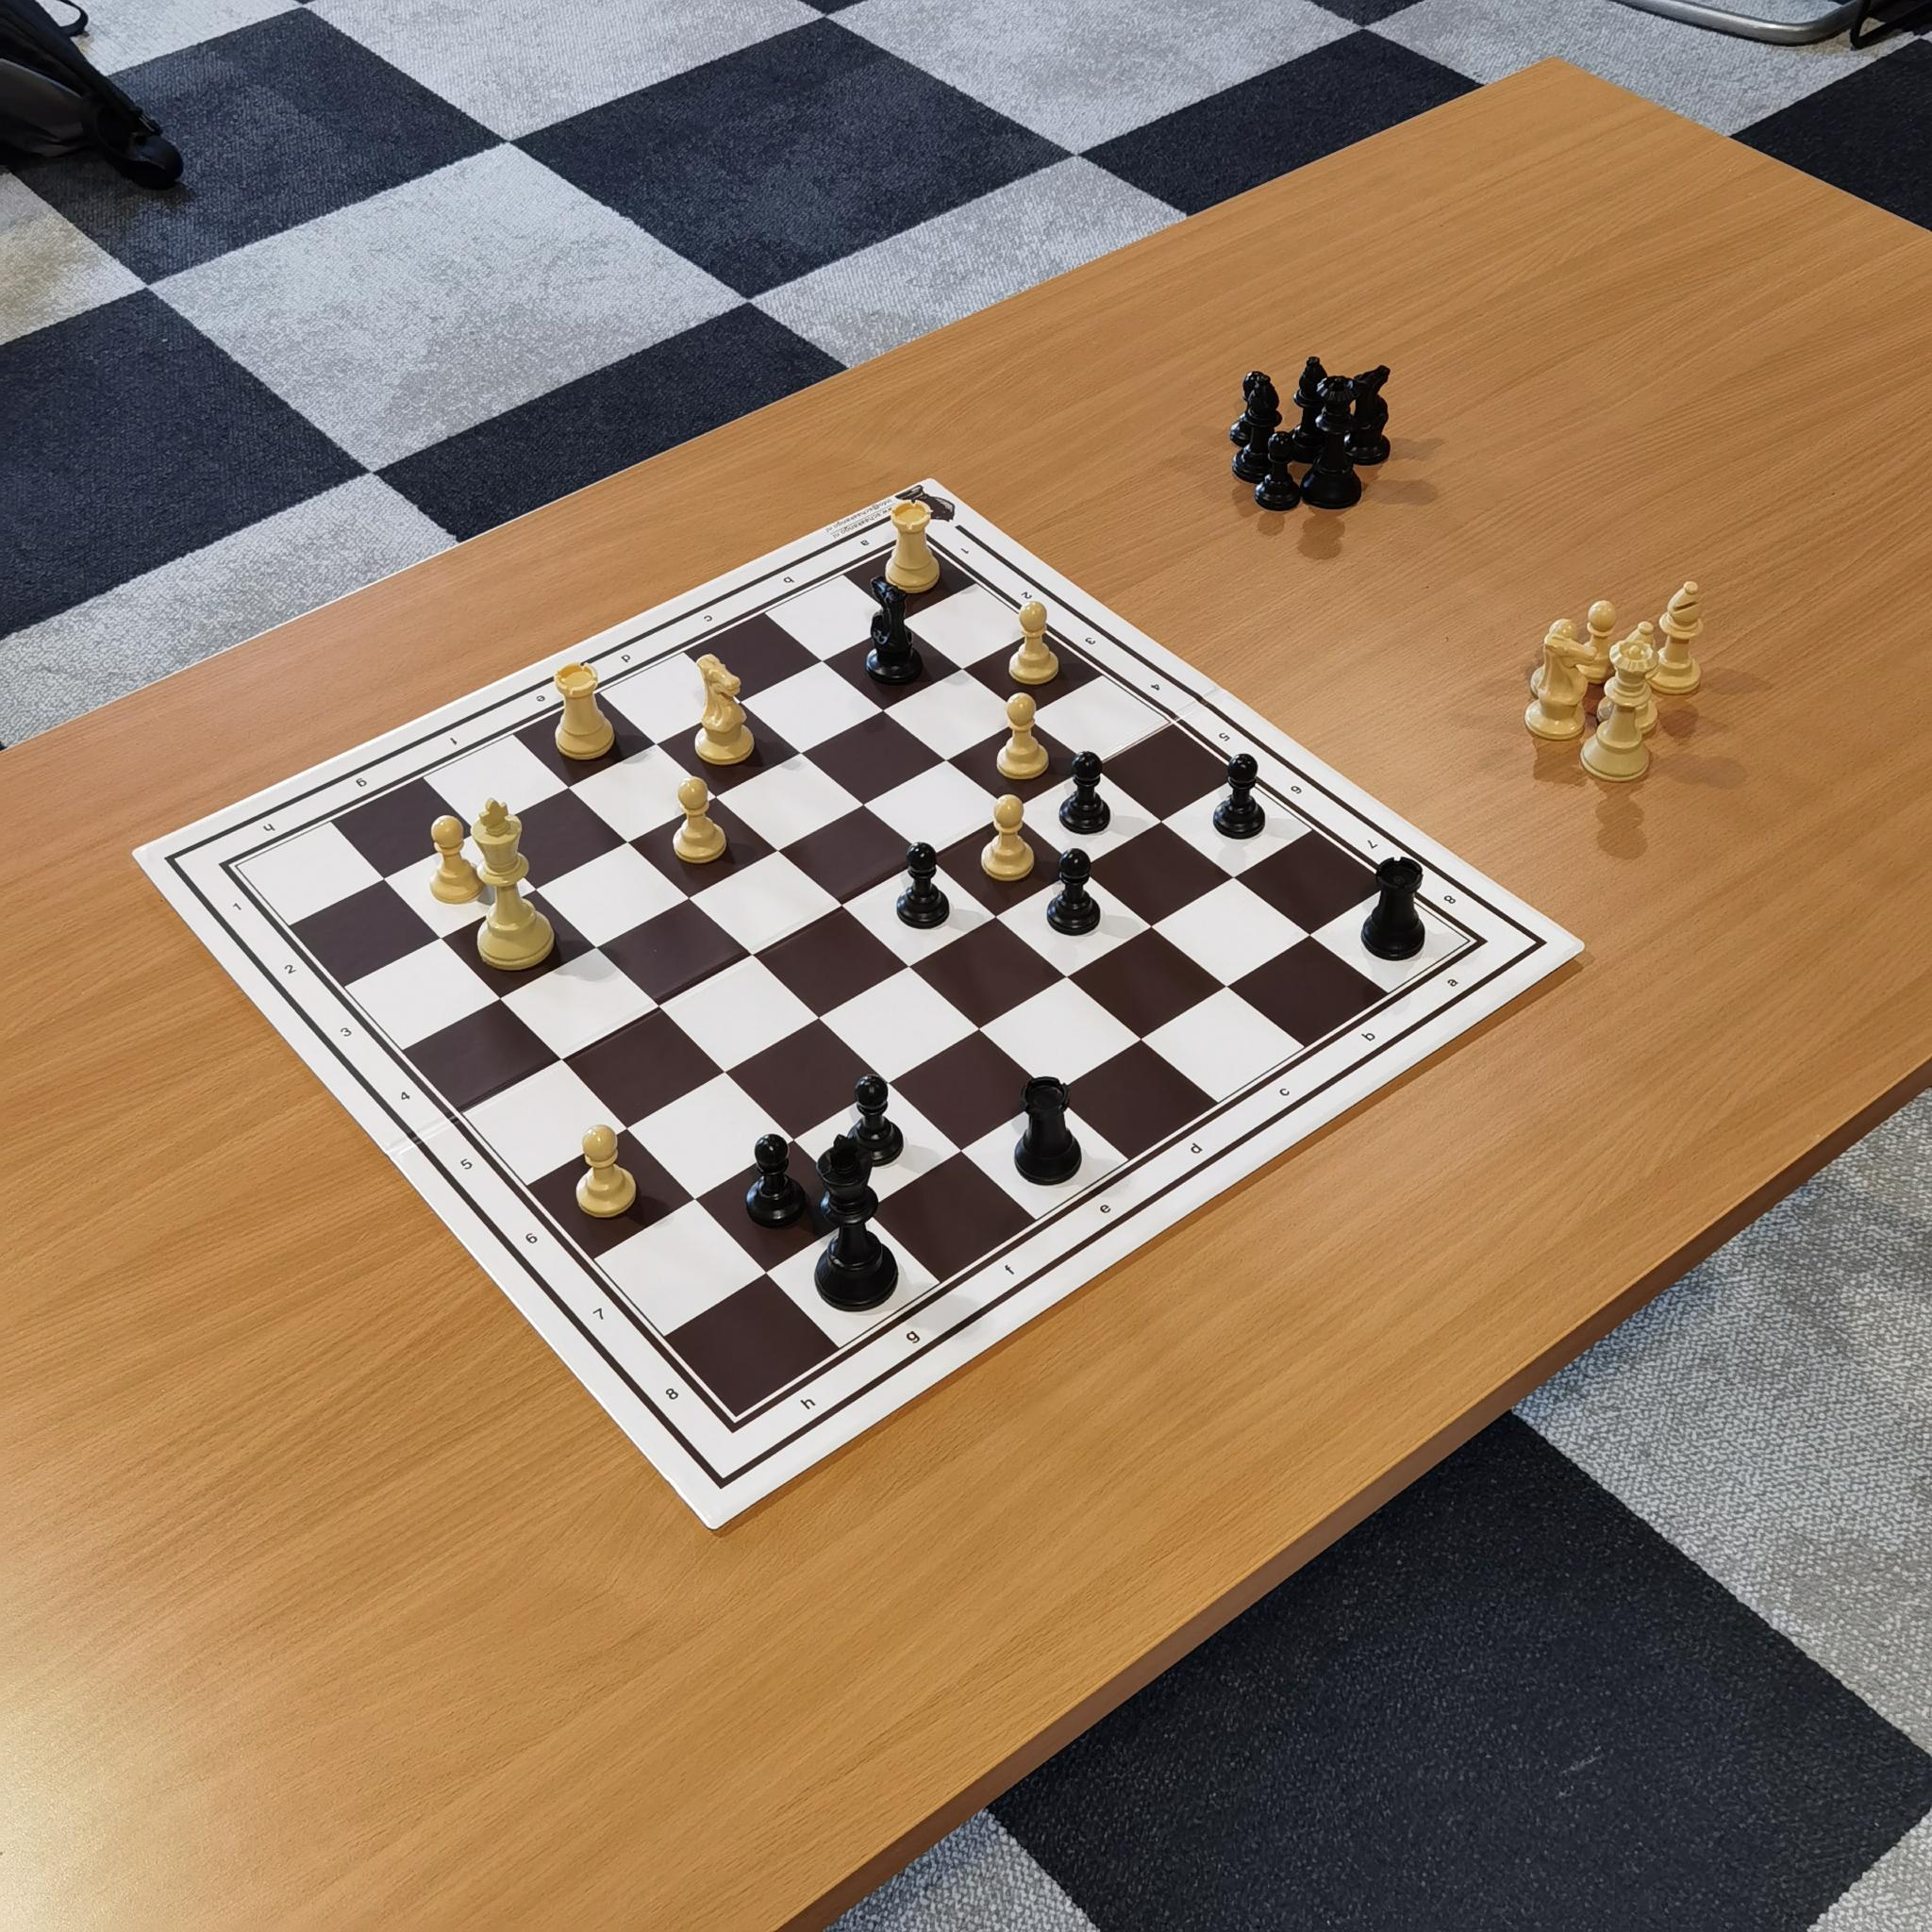corners: (1447, 924, 1502, 964), (711, 1401, 763, 1444), (881, 520, 931, 559), (209, 849, 258, 885)
eight: (656, 1375, 692, 1412), (1438, 883, 1470, 913)
one: (219, 886, 258, 925), (947, 536, 980, 568)
